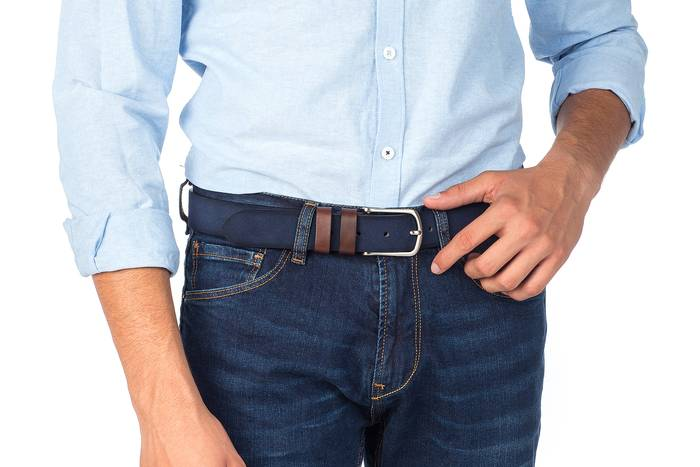C_jeans: (176, 211, 546, 467)
F_belt: (180, 175, 477, 266)
F_shirt: (67, 1, 649, 274)
